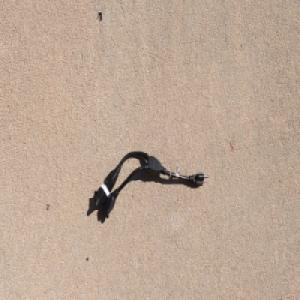Wire: (93, 149, 210, 220)
